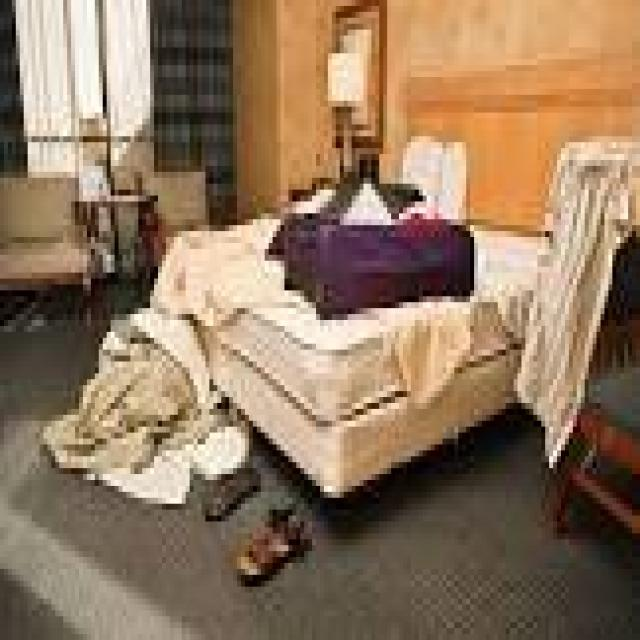mess: (36, 338, 305, 631), (194, 153, 528, 375)
